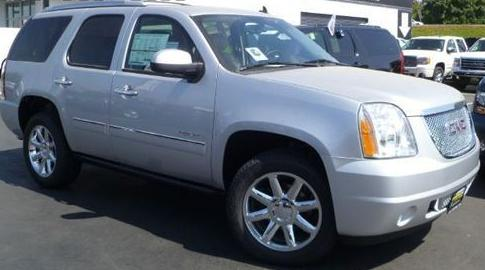front_view: (333, 71, 479, 216)
headlight: (347, 88, 424, 168)
side_glass: (70, 13, 196, 86)
